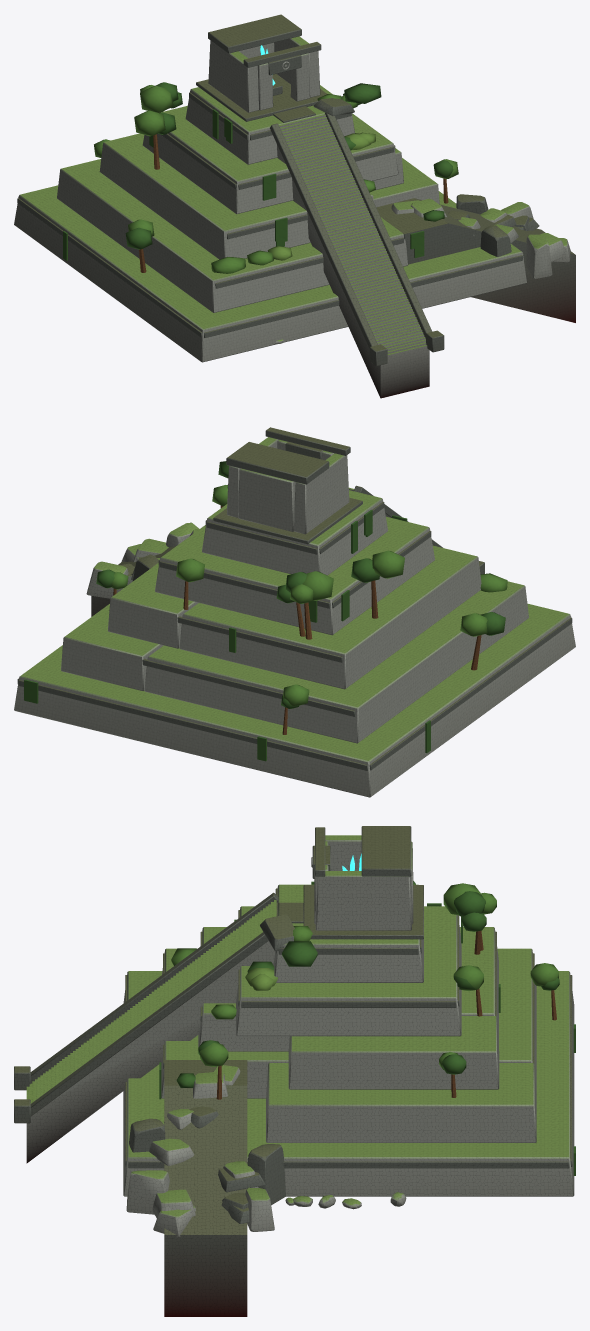
Rendered from landmark_ziggurat.glb.
3 renders of one model, top to bottom at view 1: azimuth 30°, elevation 25°; view 2: azimuth 150°, elevation 25°; view 3: azimuth 270°, elevation 25°, orthographic. The views are drawn at different scales.
Visible parts, largest first — view 1: landmark_ziggurat; view 2: landmark_ziggurat; view 3: landmark_ziggurat.
Part boxes in pixels (bbox=[...]): landmark_ziggurat: bbox=[14, 14, 575, 398]; landmark_ziggurat: bbox=[14, 427, 575, 797]; landmark_ziggurat: bbox=[14, 826, 575, 1316].
Size of what is drawn, in the model's own units: 72.91 by 49.3 by 74.7.
15 materials, 14 textured.
